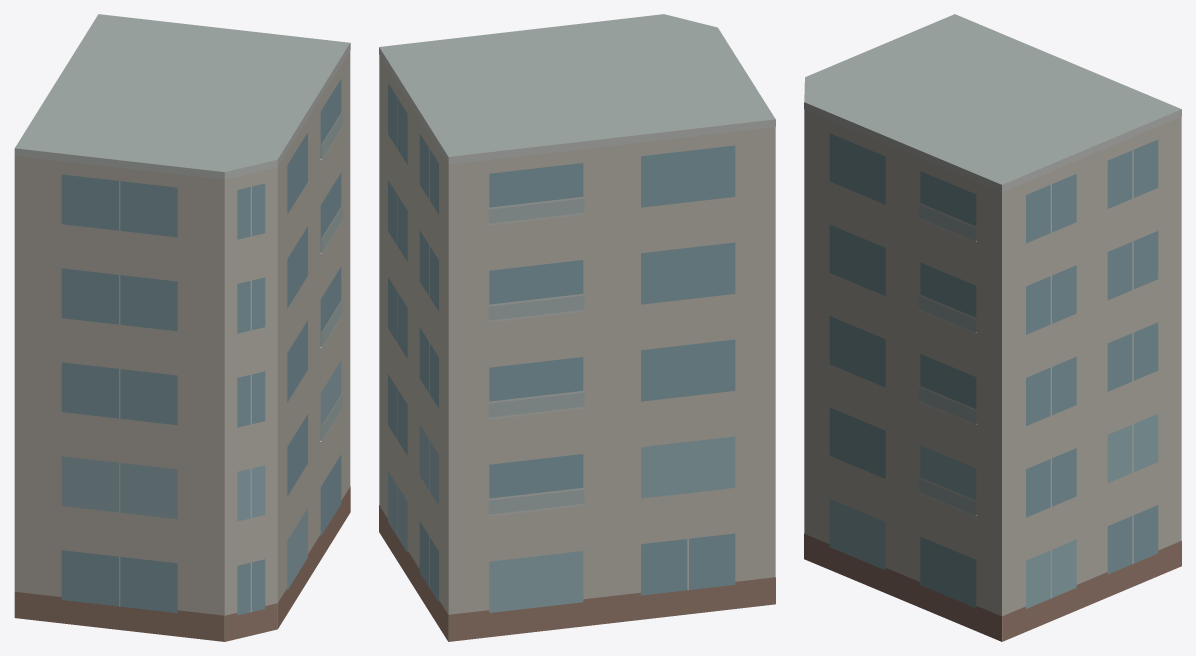
The model's file is survey-upis-32725391.glb.
3 renders of one model, left to right at view 1: azimuth 30°, elevation 25°; view 2: azimuth 150°, elevation 25°; view 3: azimuth 270°, elevation 25°, orthographic. The views are drawn at different scales.
Visible parts, largest first — view 1: survey-upis-32725391.tmp; view 2: survey-upis-32725391.tmp; view 3: survey-upis-32725391.tmp.
Boxes of the visible parts, <box> form: survey-upis-32725391.tmp: <box>14,14,350,641</box>; survey-upis-32725391.tmp: <box>379,14,775,641</box>; survey-upis-32725391.tmp: <box>804,14,1181,641</box>.
Bounding box in the file's own units: 12.24 × 15.25 × 11.43.
